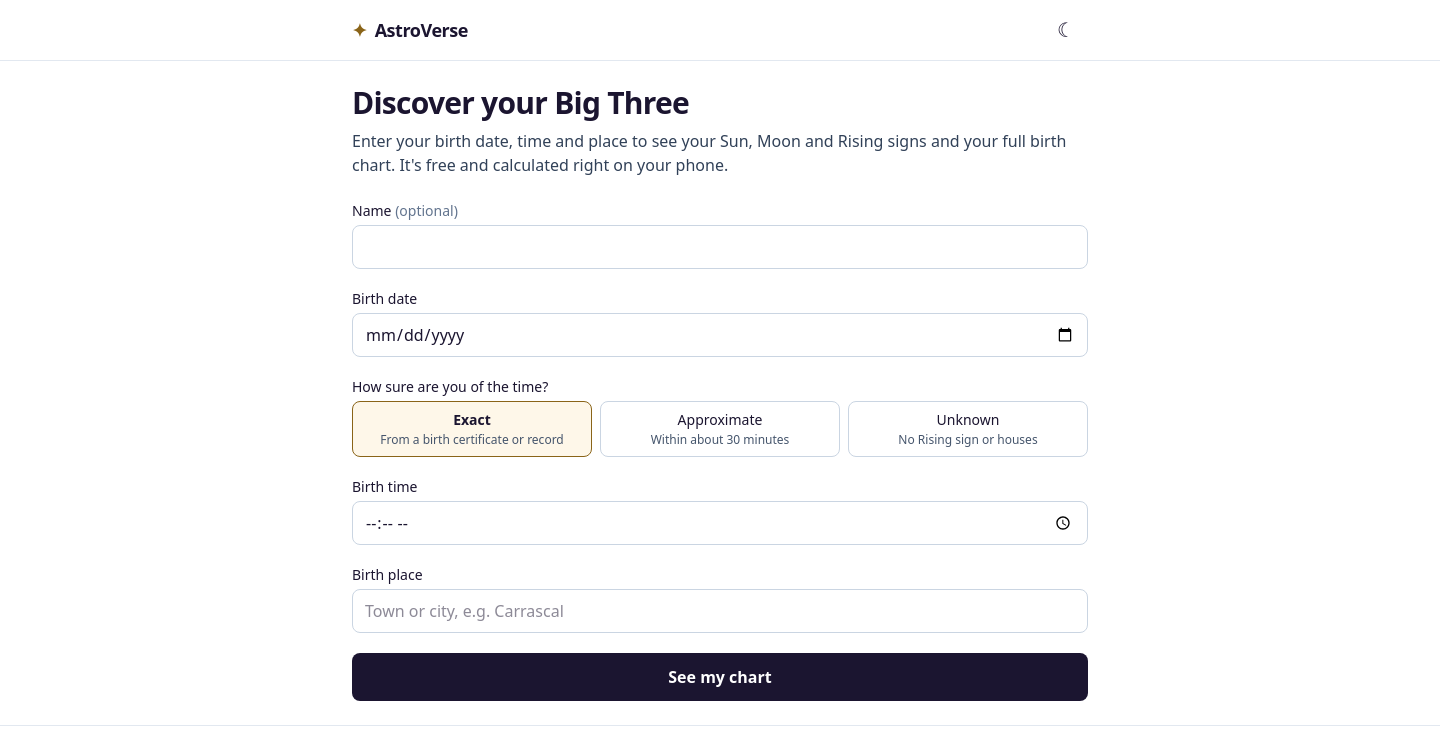
Birth form → chart (PRD F1 acceptance) › hides Rising when the time is unknown
This screenshot has width=1440, height=735.
Type "1990-05-31" into the date field labelled "Birth date" at (720, 335), box [352,313,1088,357]
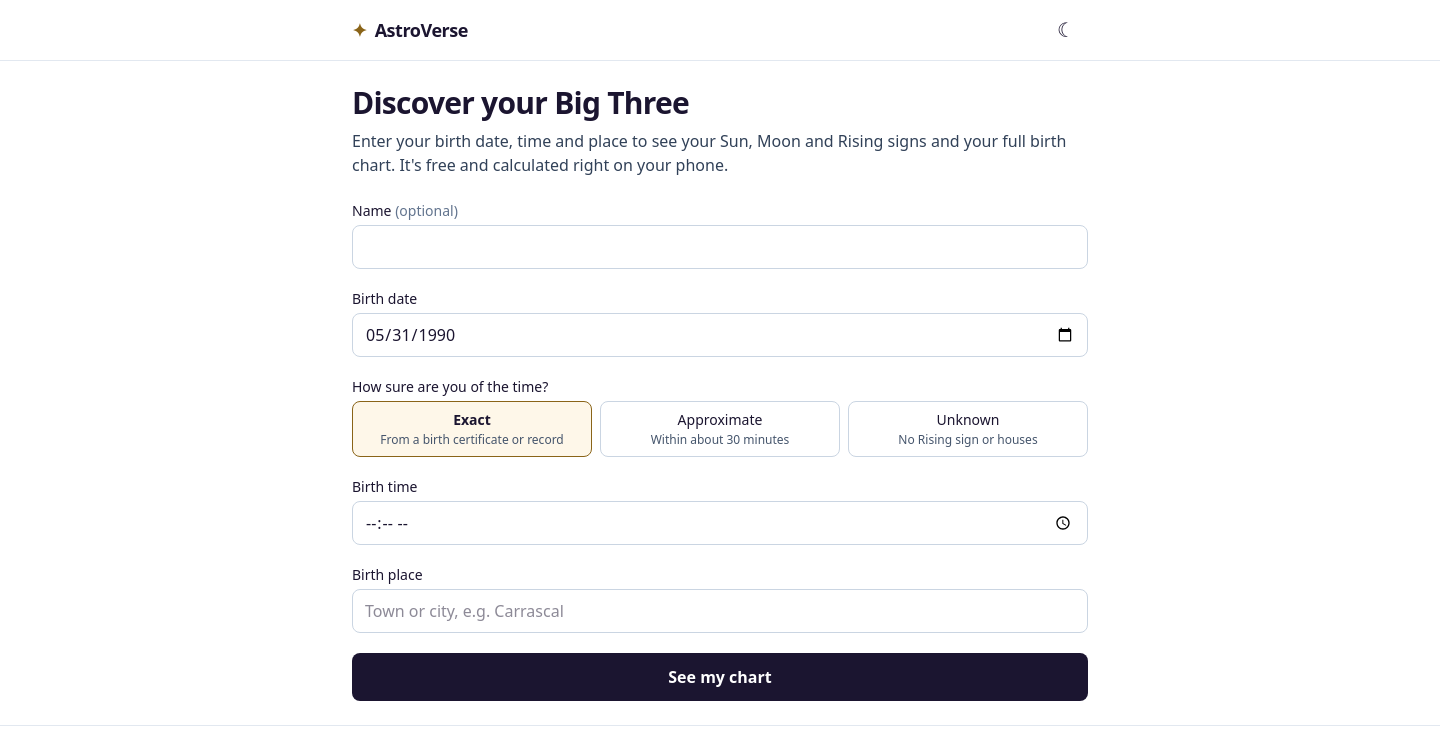
Click the radio button labelled "Unknown No Rising sign or houses" at (968, 429), box [848,401,1088,457]
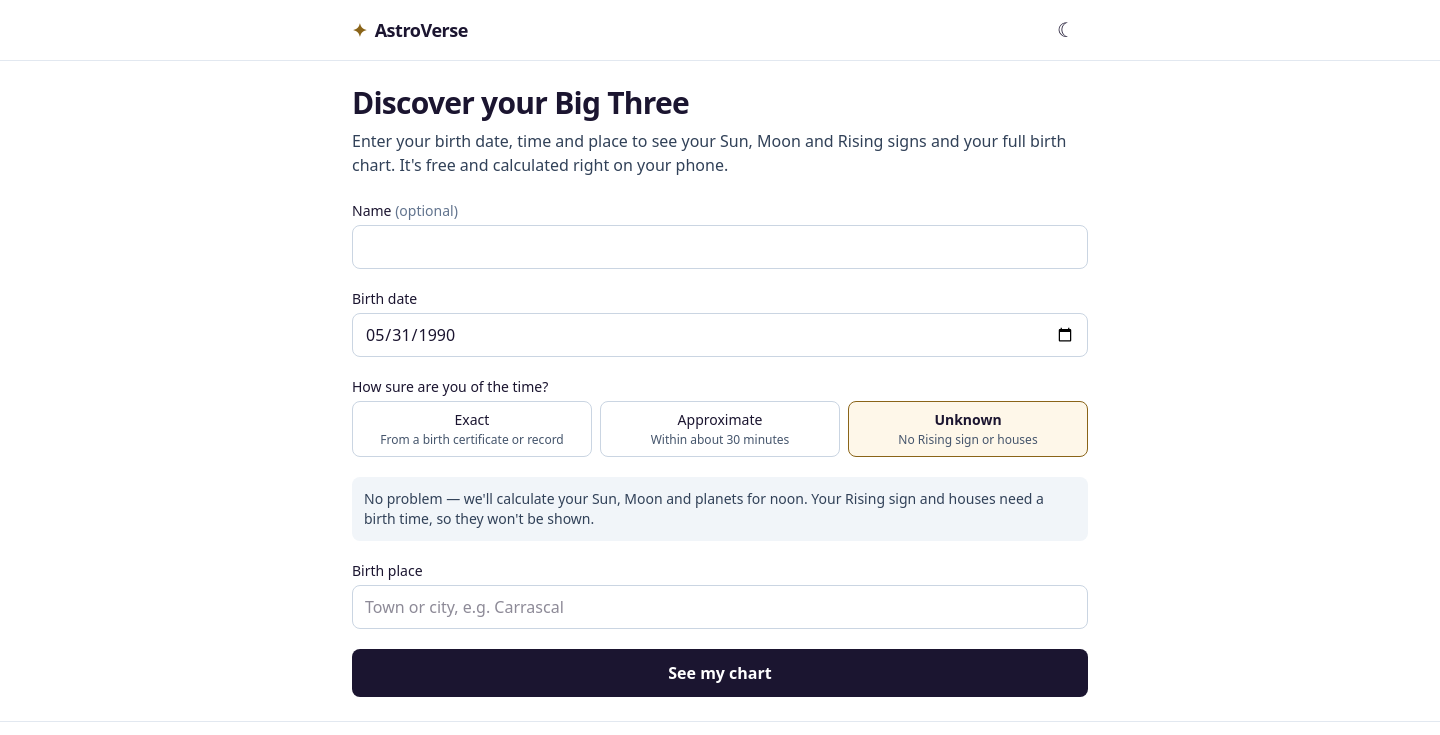
Type "Carrascal" into the dropdown labelled "Birth place" at (720, 607), box [352,585,1088,629]
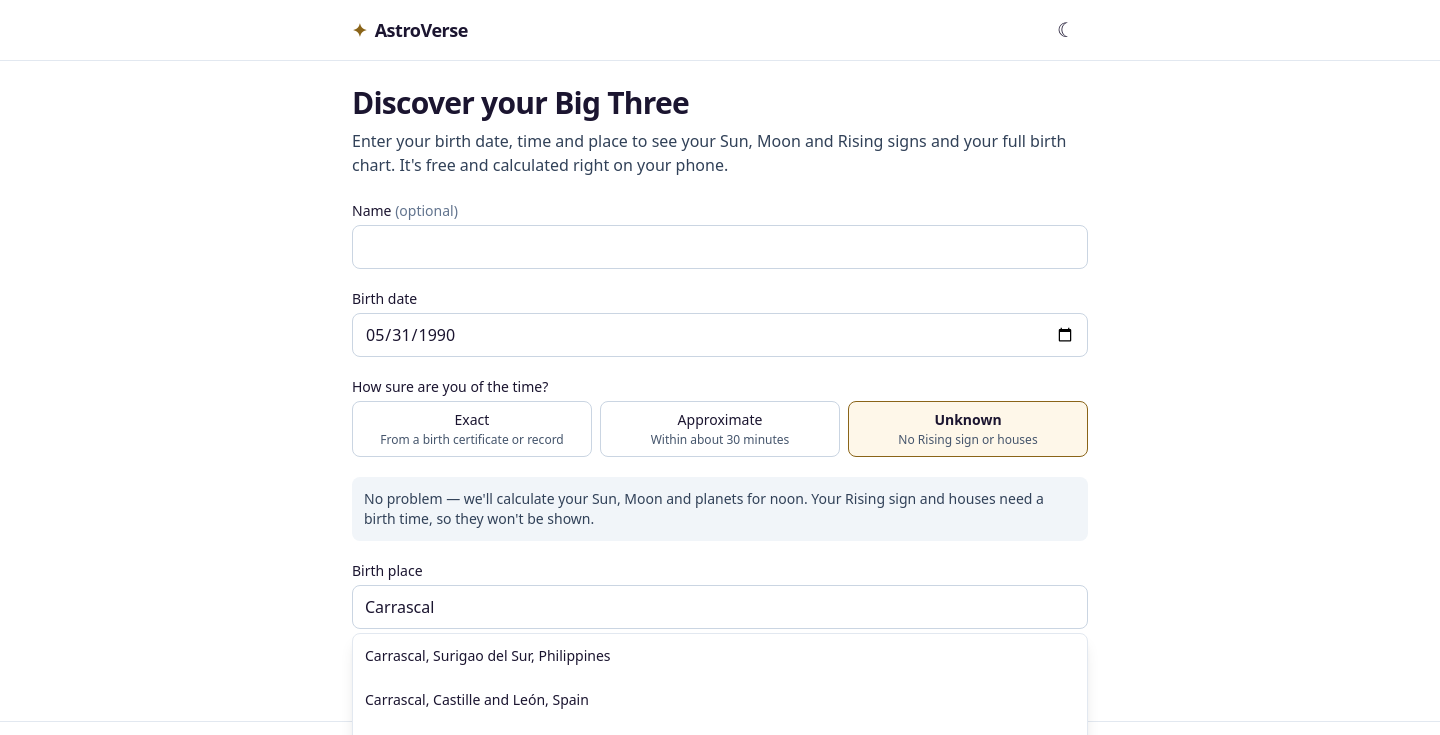
Click the option "Carrascal, Surigao del Sur, Philippines" at (488, 656), box [365,646,610,665]
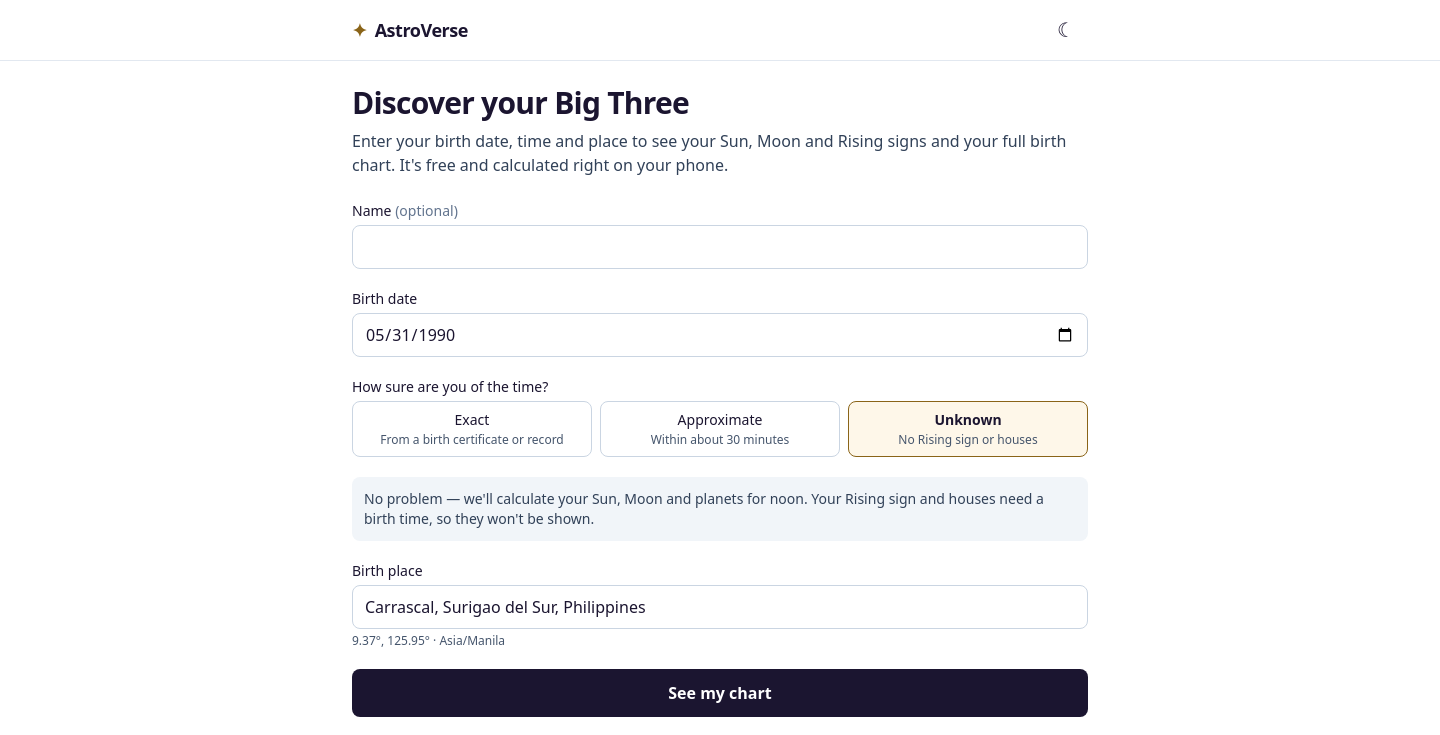
Check: the time field labelled "Birth time" is not shown
Click the button "See my chart" at (720, 693), box [352,669,1088,717]
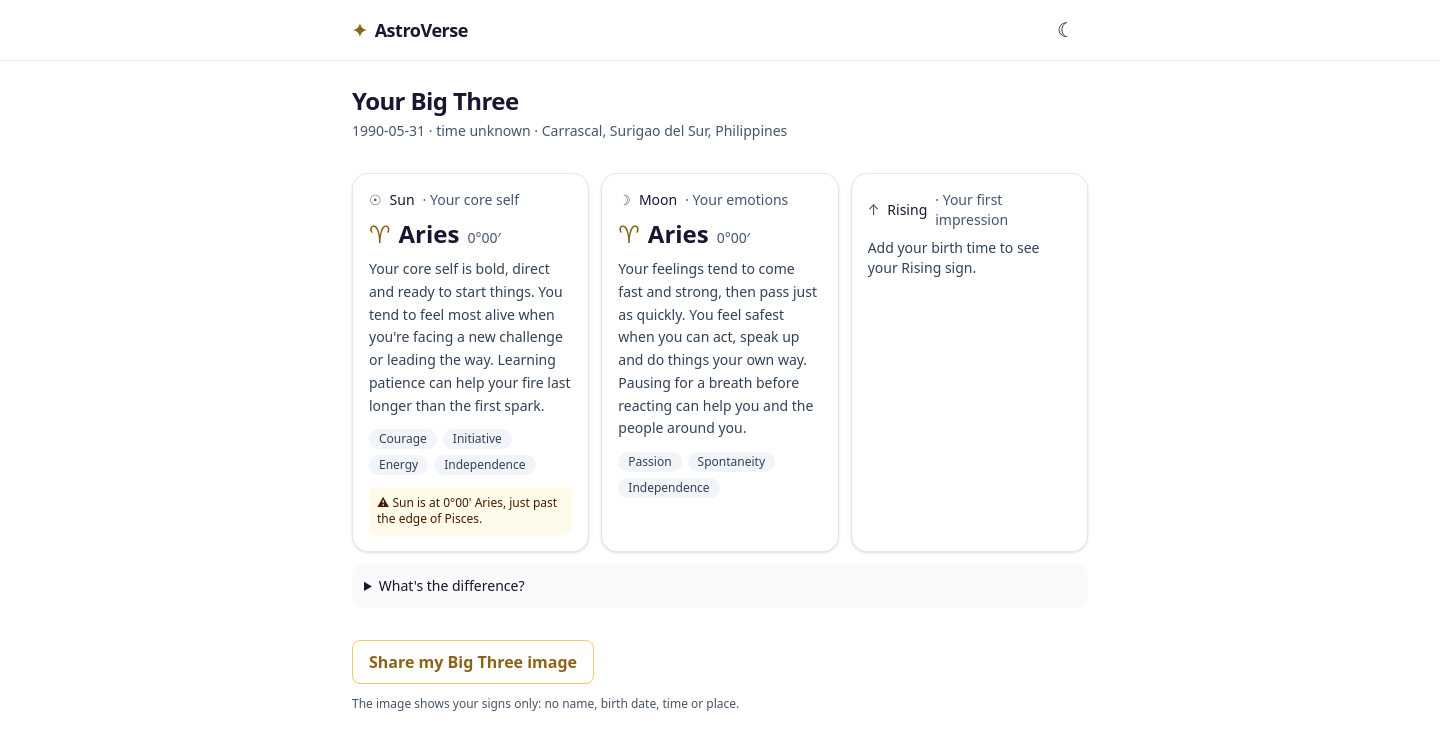
Check: the text "Add your birth time to see your Rising sign." is shown, box [868,238,1040,277]
